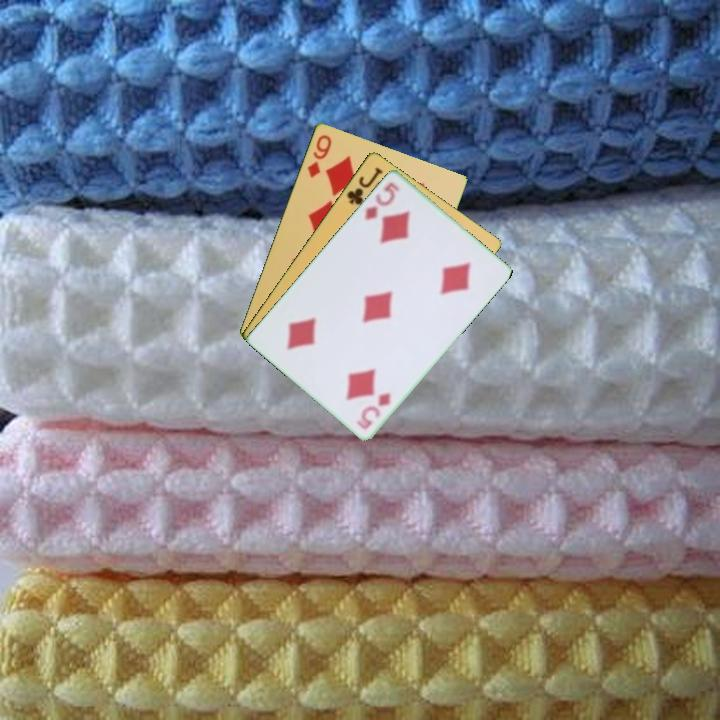5d: (360, 178, 403, 223), (352, 388, 393, 432)
9d: (304, 131, 334, 180)
Jc: (343, 163, 386, 208)
